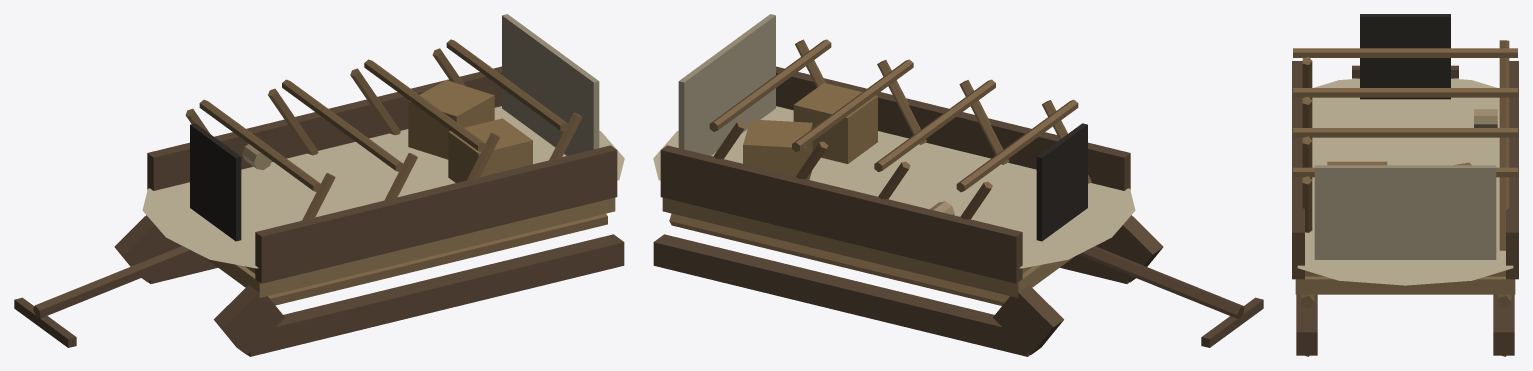
The model's file is M_SledCart.glb.
3 renders of one model, left to right at view 1: azimuth 30°, elevation 25°; view 2: azimuth 150°, elevation 25°; view 3: azimuth 270°, elevation 25°, orthographic.
Parts seen in each view (by area): view 1: M_SledCart_Structure, M_SledCart_Roof, M_SledCart_Foundation, M_SledCart_Props, M_SledCart_Fixtures, M_SledCart_Openings; view 2: M_SledCart_Structure, M_SledCart_Roof, M_SledCart_Foundation, M_SledCart_Props, M_SledCart_Fixtures, M_SledCart_Openings; view 3: M_SledCart_Roof, M_SledCart_Fixtures, M_SledCart_Structure, M_SledCart_Openings, M_SledCart_Foundation, M_SledCart_Props.
Part boxes in pixels (<box>): M_SledCart_Structure: <box>147,66,617,305</box>; M_SledCart_Roof: <box>142,14,624,268</box>; M_SledCart_Foundation: <box>114,215,624,356</box>; M_SledCart_Props: <box>14,80,532,347</box>; M_SledCart_Fixtures: <box>185,39,582,220</box>; M_SledCart_Openings: <box>190,123,241,241</box>; M_SledCart_Structure: <box>660,66,1130,305</box>; M_SledCart_Roof: <box>653,14,1135,268</box>; M_SledCart_Foundation: <box>653,215,1163,356</box>; M_SledCart_Props: <box>743,83,1263,347</box>; M_SledCart_Fixtures: <box>709,39,1091,219</box>; M_SledCart_Openings: <box>1036,123,1087,241</box>; M_SledCart_Roof: <box>1297,78,1513,285</box>; M_SledCart_Fixtures: <box>1293,40,1517,250</box>; M_SledCart_Structure: <box>1292,61,1518,308</box>; M_SledCart_Openings: <box>1360,14,1450,99</box>; M_SledCart_Foundation: <box>1296,294,1514,356</box>; M_SledCart_Props: <box>1327,65,1497,165</box>.
Size of the model in its own units: 6.04 by 1.89 by 2.12.
